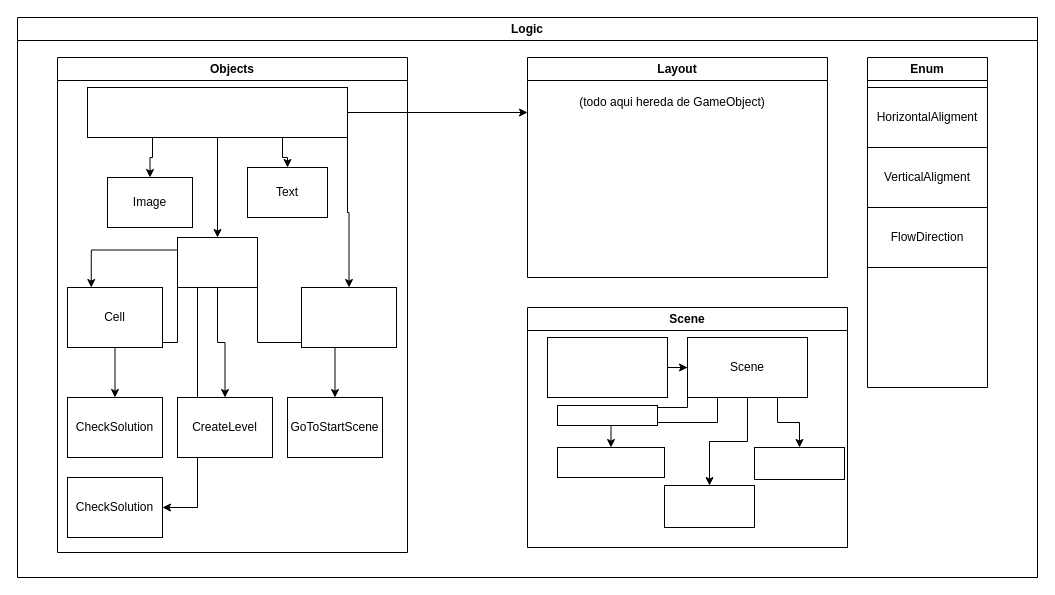
Image size: 1055x595. Some labels were removed from this diagram. Each missing label, with the centre of its shape:
Button: point (217, 262)
GameObject: point (217, 112)
GameScene: point (709, 506)
IScene: point (607, 367)
LevelSelectScene: point (610, 462)
StartScene: point (607, 415)
Table: point (348, 317)
WinScene: point (799, 463)
